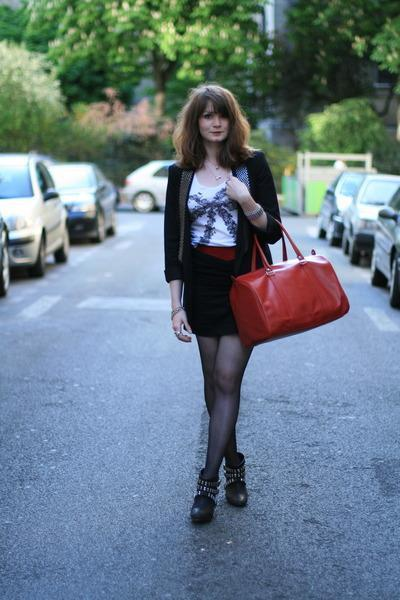bag: (230, 252, 348, 342)
jacket: (164, 148, 295, 284)
shirt: (187, 164, 241, 247)
shoe: (190, 468, 248, 526)
skirt: (183, 252, 249, 340)
